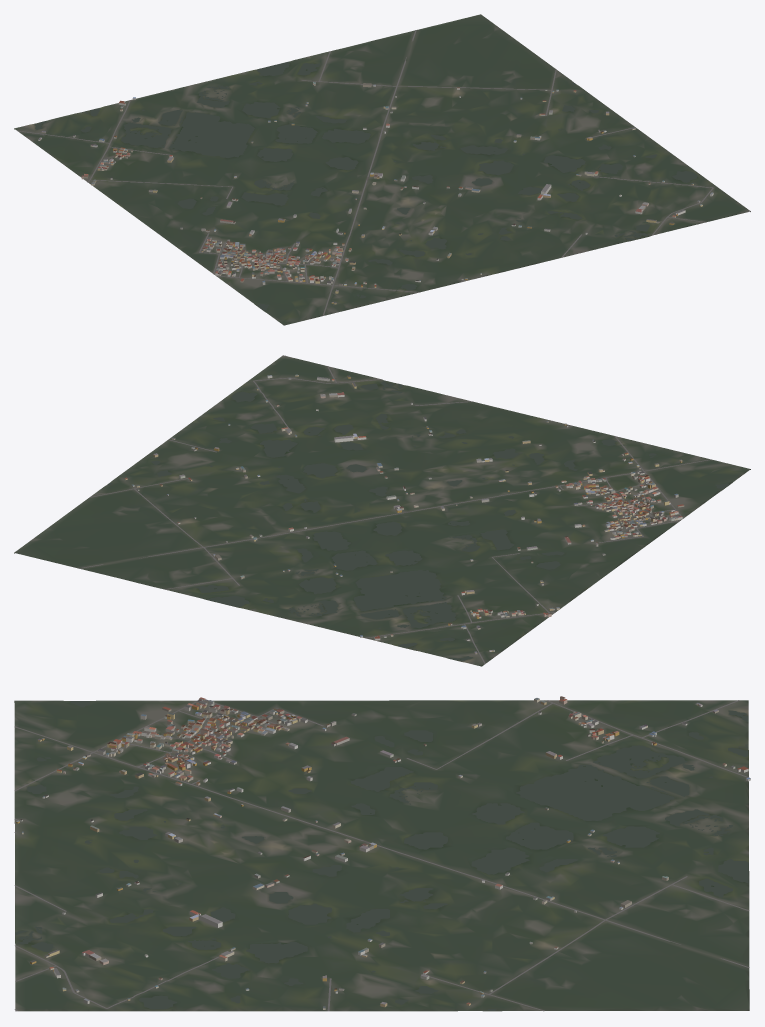
3 views of the same model, one above another, from view 1: azimuth 30°, elevation 25°; view 2: azimuth 150°, elevation 25°; view 3: azimuth 270°, elevation 25° (orthographic). The views are drawn at different scales.
Visible parts, largest first — view 1: ground, water, buildings, roads; view 2: ground, water, buildings, roads; view 3: ground, water, buildings, roads.
Part boxes in pixels (<box>): ground: <box>14,14,750,325</box>; water: <box>34,61,697,310</box>; buildings: <box>38,82,713,304</box>; roads: <box>17,30,749,315</box>; ground: <box>14,355,750,666</box>; water: <box>108,381,729,660</box>; buildings: <box>124,374,684,654</box>; roads: <box>79,355,711,663</box>; ground: <box>14,700,749,1011</box>; water: <box>15,701,748,1010</box>; buildings: <box>15,696,750,1009</box>; roads: <box>14,700,749,1011</box>.
Bounding box in the file's own units: 1409 × 14.35 × 1407.
